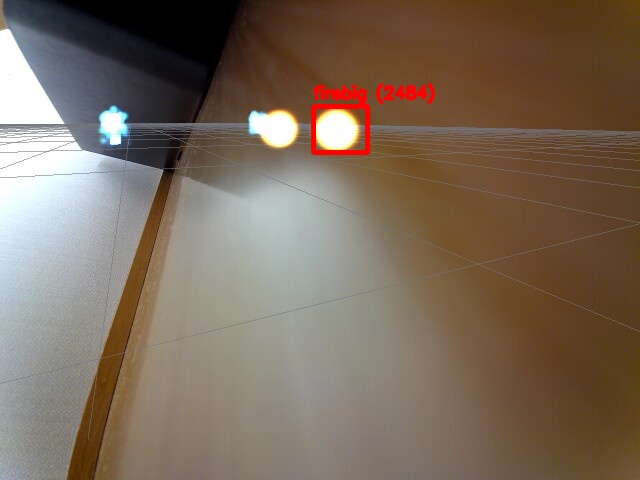firebig: (313, 106, 367, 152)
